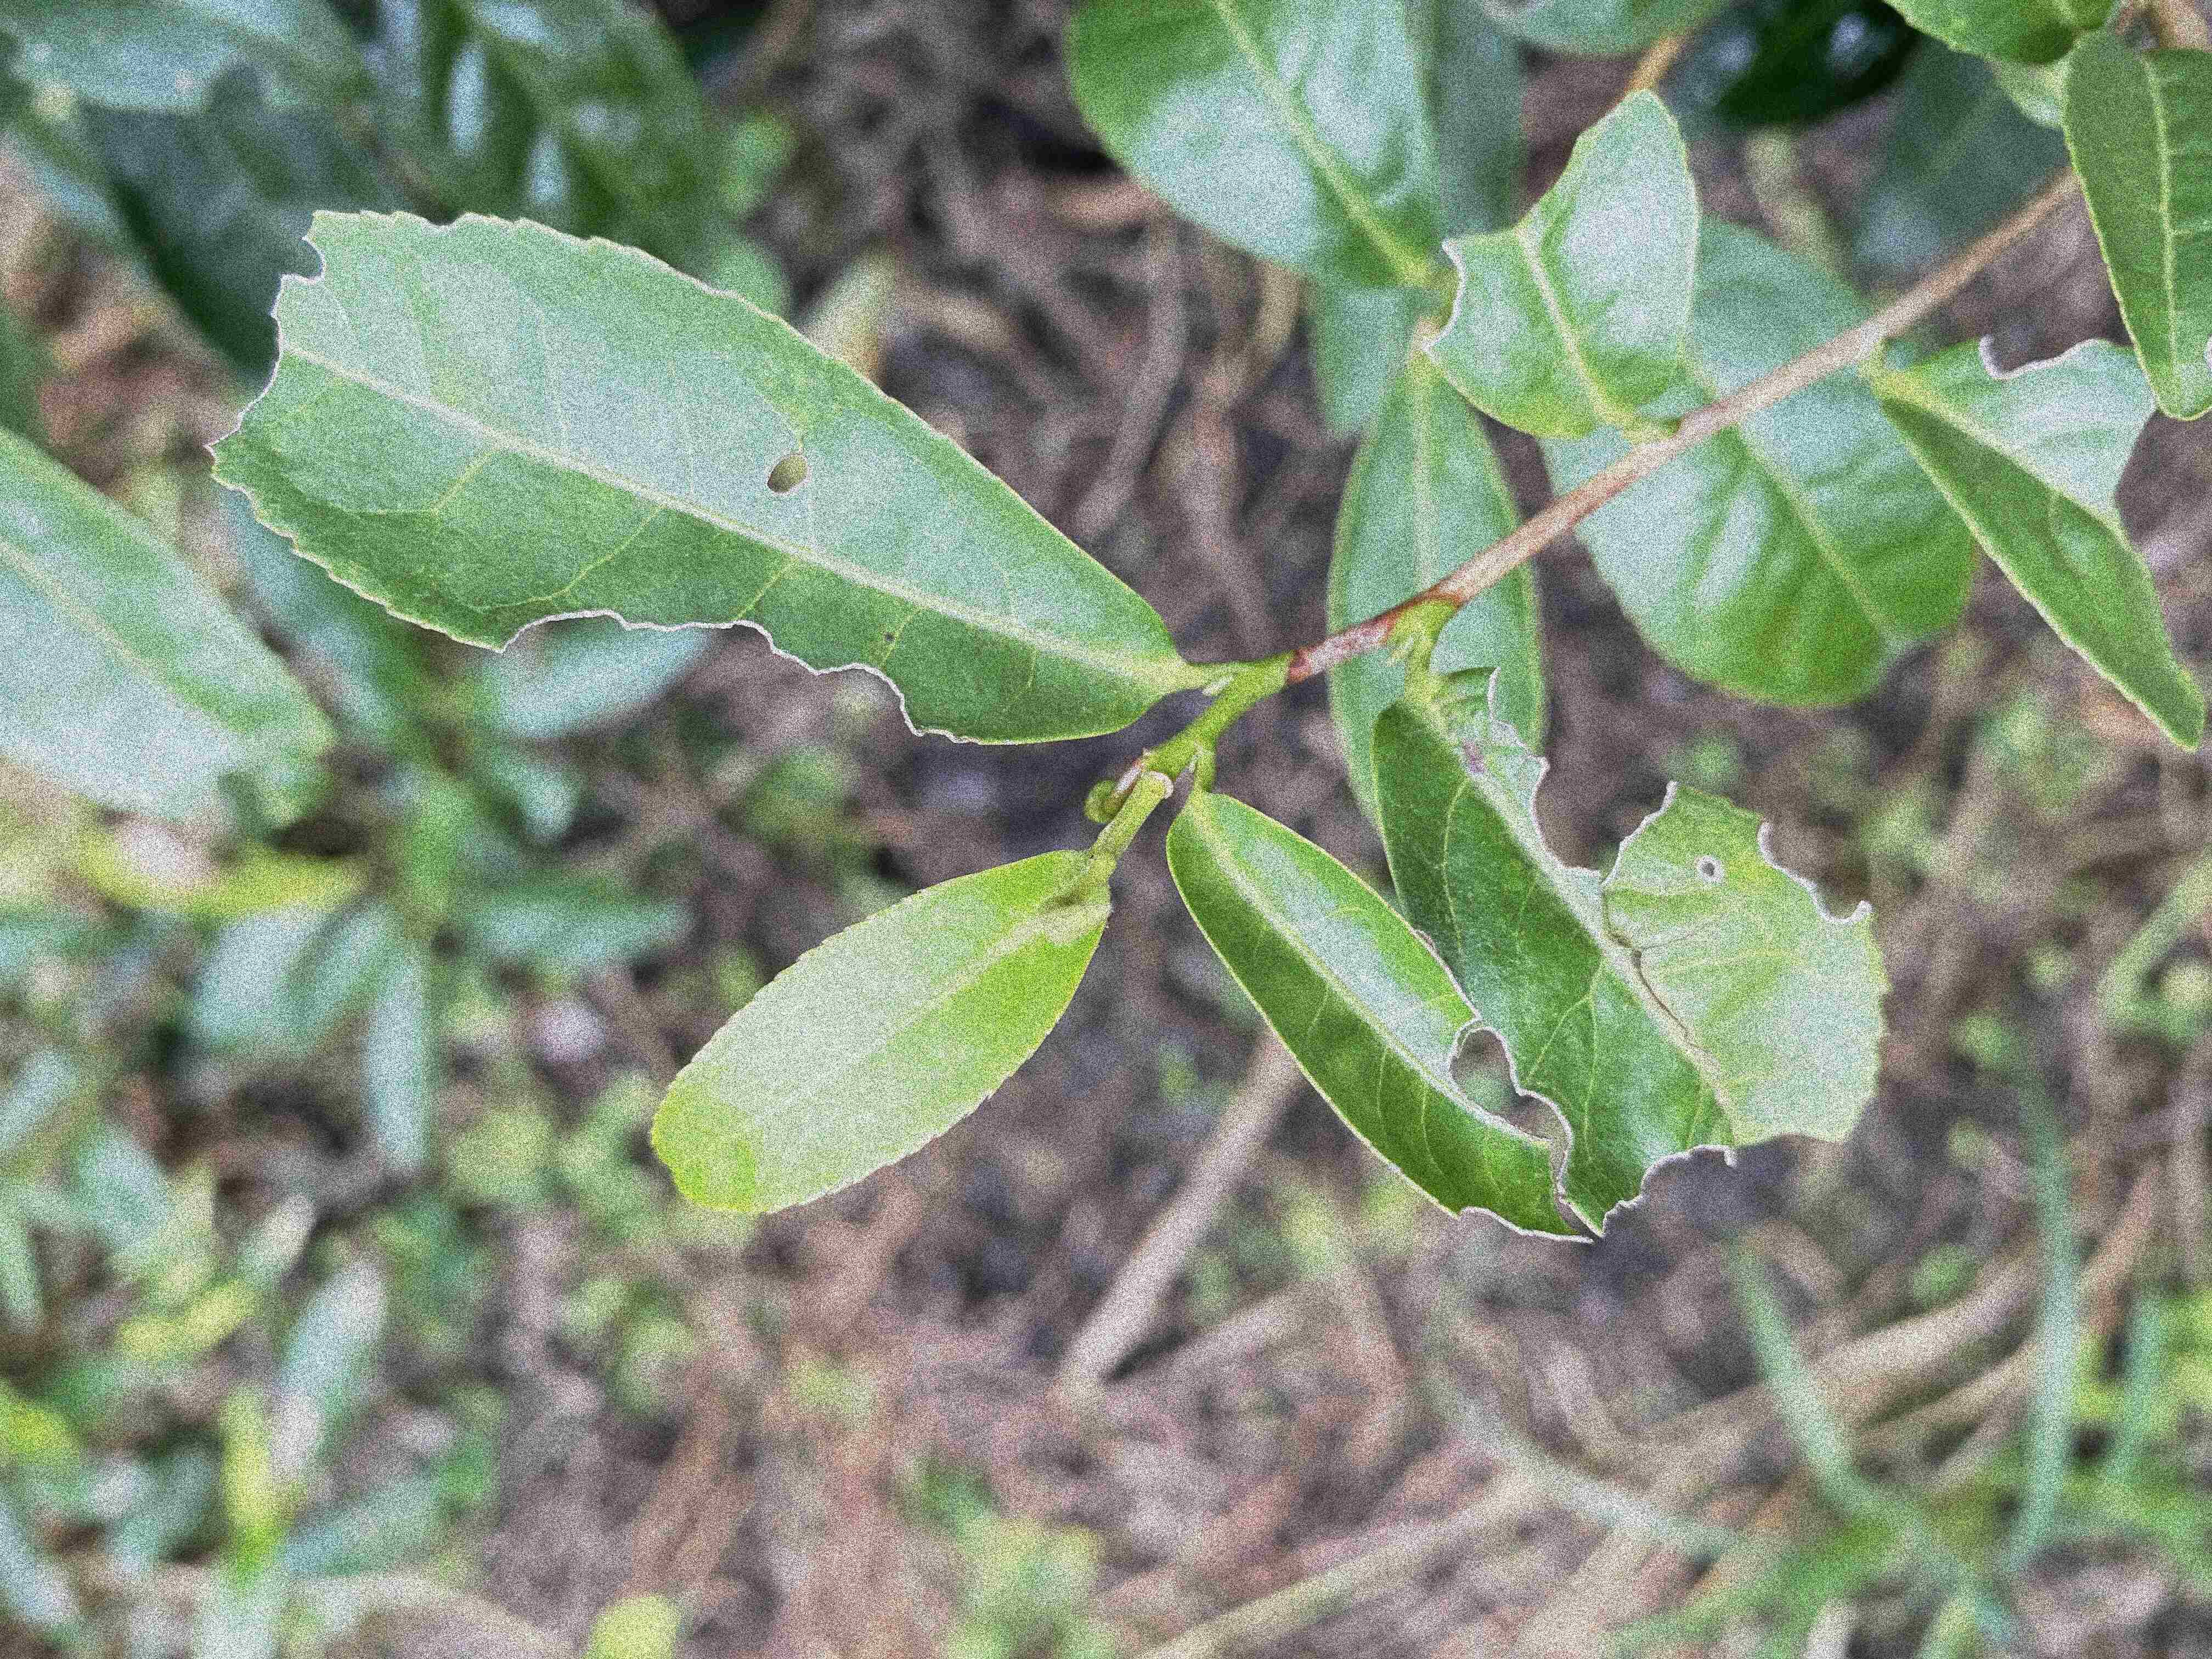chihuo_high: (199, 202, 1177, 746), (1369, 666, 1890, 1236), (1163, 788, 1595, 1243), (1871, 326, 2203, 756), (1421, 87, 1703, 443)
healthy: (646, 847, 1111, 1218)
